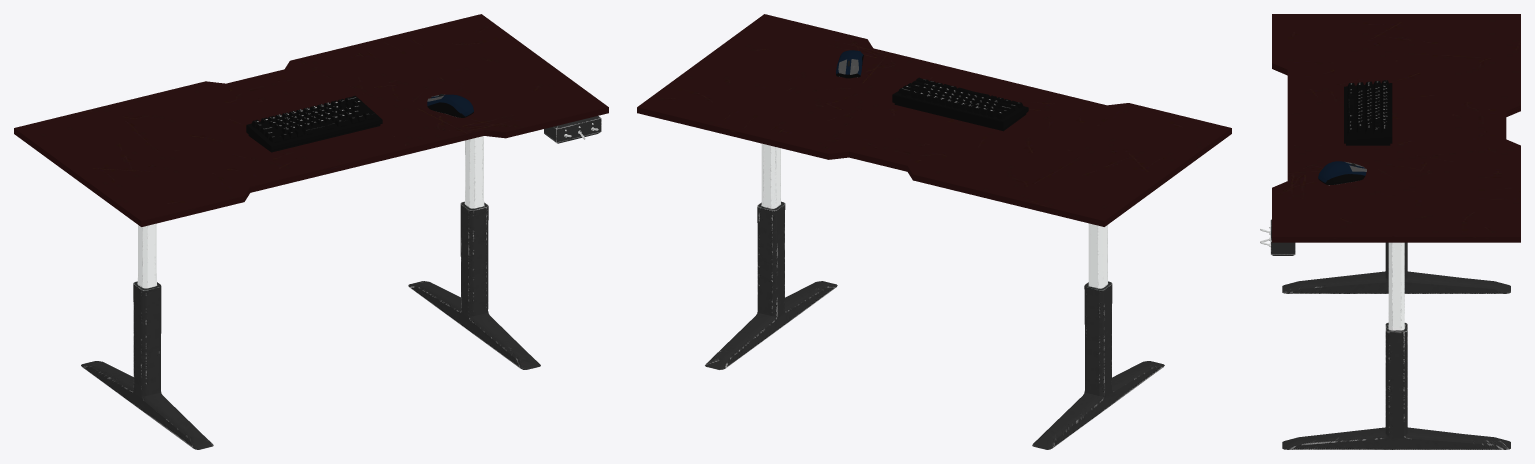
Rendered from desk.glb.
The picture shows the model from 3 angles, left to right: view 1: azimuth 30°, elevation 25°; view 2: azimuth 150°, elevation 25°; view 3: azimuth 270°, elevation 25°; orthographic projection. The views are drawn at different scales.
Visible parts, largest first — view 1: Object_3, Object_2, Object_7, Object_4; view 2: Object_3, Object_2, Object_7, Object_4; view 3: Object_3, Object_2, Object_7, Object_4.
Part boxes in pixels (bbox=[...]): Object_3: bbox=[14, 14, 608, 226]; Object_2: bbox=[81, 116, 601, 449]; Object_7: bbox=[246, 95, 382, 152]; Object_4: bbox=[427, 94, 473, 117]; Object_3: bbox=[637, 14, 1231, 226]; Object_2: bbox=[705, 143, 1164, 449]; Object_7: bbox=[892, 77, 1028, 131]; Object_4: bbox=[836, 50, 863, 78]; Object_3: bbox=[1272, 14, 1520, 242]; Object_2: bbox=[1260, 219, 1510, 449]; Object_7: bbox=[1344, 80, 1392, 145]; Object_4: bbox=[1318, 161, 1366, 185].
Bounding box in the file's own units: 5.41 × 2.92 × 2.68.
4 materials, 4 textured.
